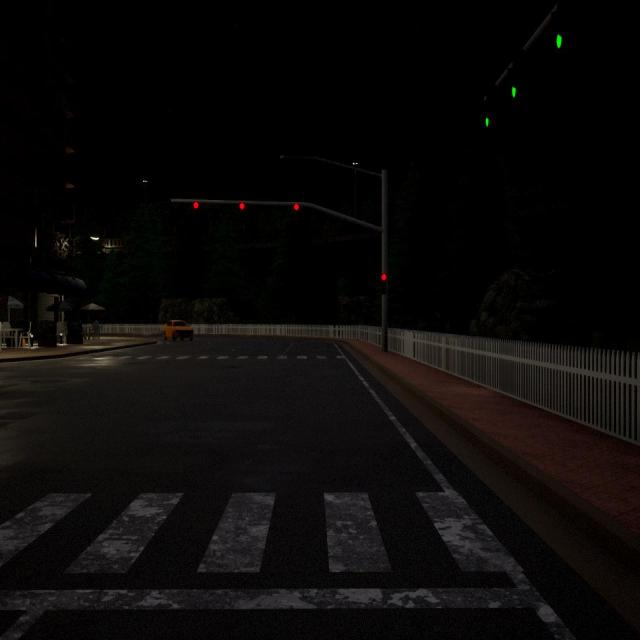Vehicle: (163, 320, 194, 344)
traffic_light: (379, 273, 387, 294), (556, 34, 562, 50), (193, 201, 199, 210), (240, 202, 246, 210), (294, 203, 300, 211), (485, 116, 489, 128), (512, 86, 516, 98)
